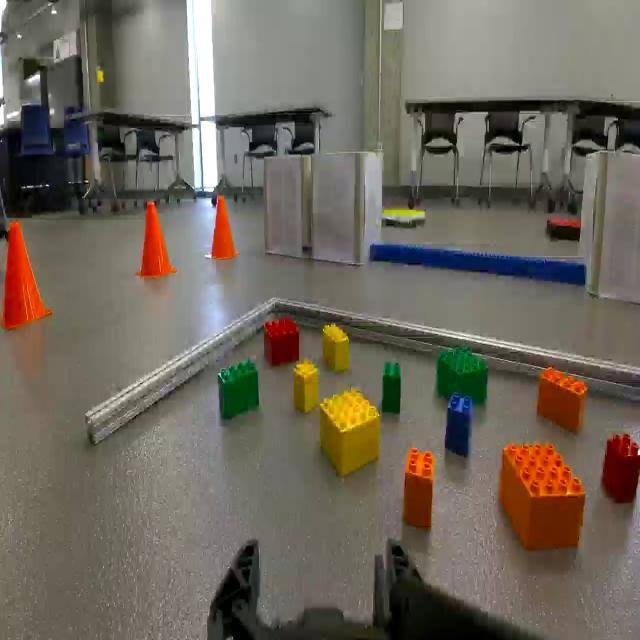block: (319, 386, 380, 479), (536, 364, 588, 436), (292, 357, 319, 418), (323, 323, 351, 376)
blue: (445, 392, 474, 462)
cone: (1, 222, 53, 336), (136, 198, 179, 288), (206, 191, 241, 264)
green: (438, 343, 488, 410), (218, 356, 260, 421), (382, 356, 402, 416)
metal barrier: (84, 290, 640, 448)
orange: (499, 442, 586, 559), (404, 447, 435, 537)
red: (546, 218, 582, 242)
red goal: (600, 432, 640, 505), (264, 315, 300, 367)
river: (372, 242, 586, 287)
storage cube: (583, 153, 640, 300), (311, 150, 383, 264), (266, 153, 308, 259)
yellow goal: (383, 206, 427, 229)
